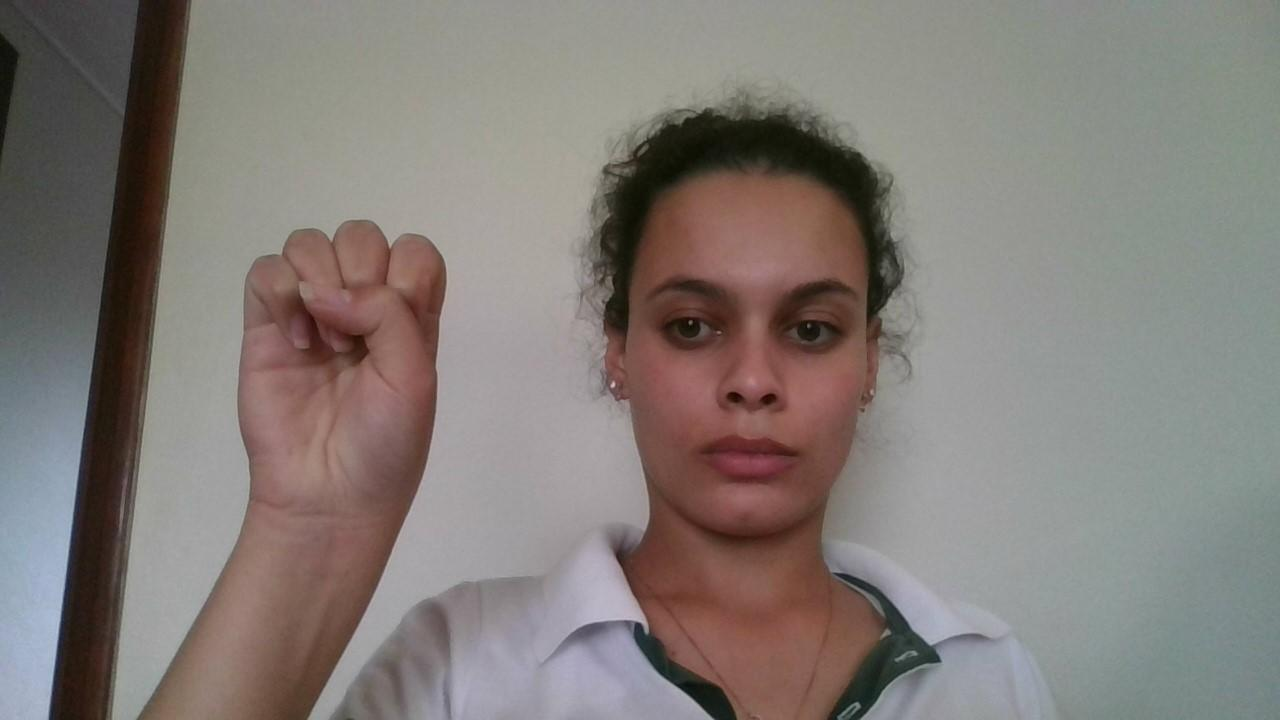S: (236, 218, 448, 504)
